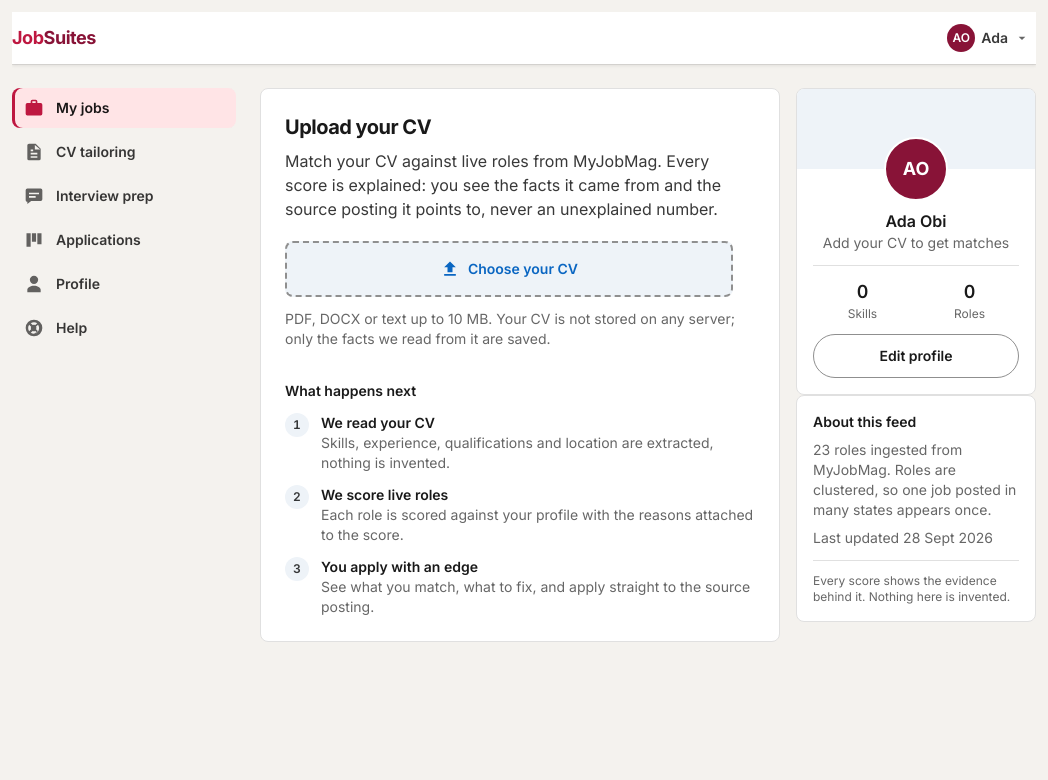
Test: sign out › clears the token and the cached user, and returns to the login screen
Expected: the heading "Upload your CV" is shown, [285,115,431,139]
Click the button named "account menu" at (989, 38), box [941,12,1036,64]
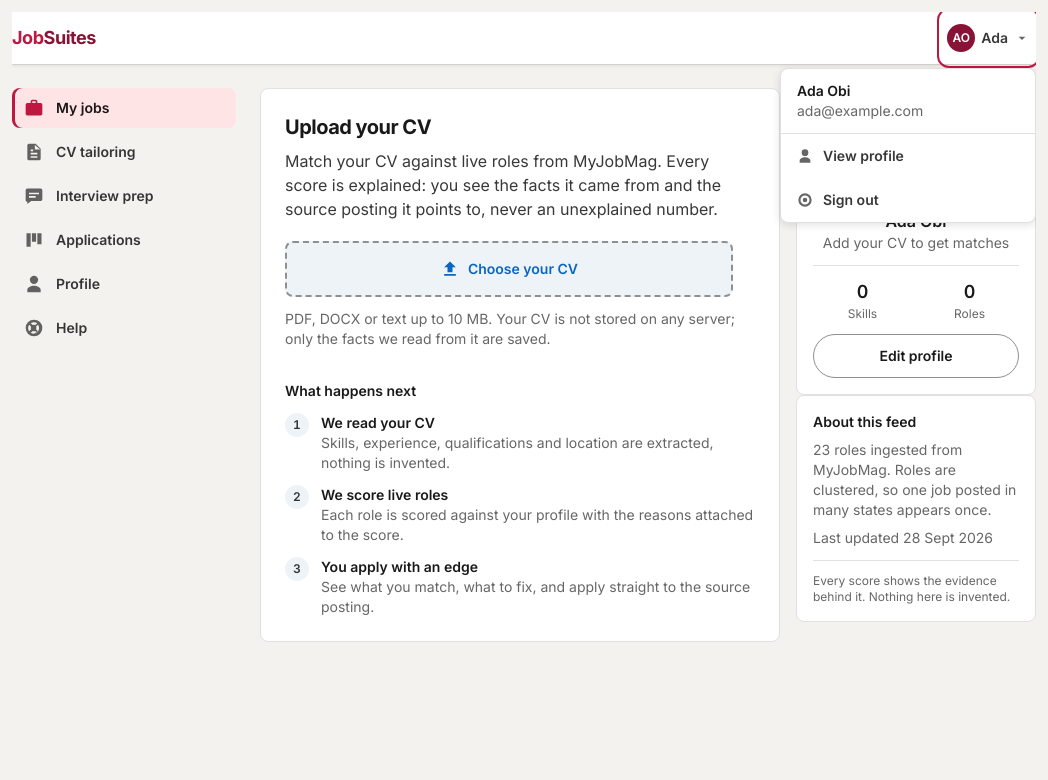
Result: the menu shows "ada@example.com" at [797,102,923,119]
Click the menu item "Sign out" at (908, 200), box [781,178,1035,222]
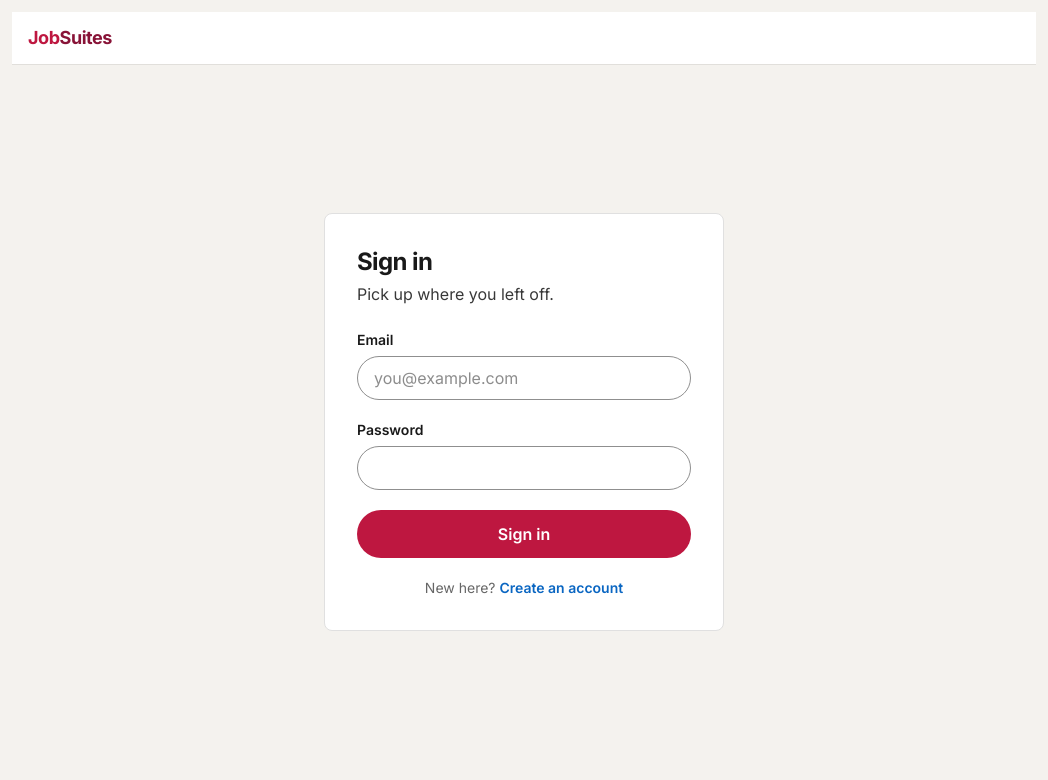
Result: the button "Sign in" is shown at [357,510,691,558]
Result: the menu is gone
